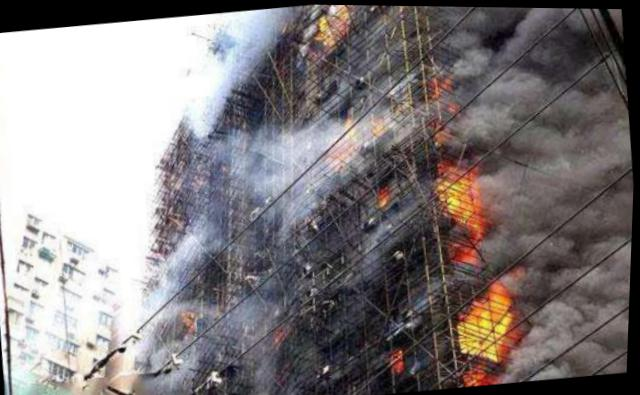fire: (448, 262, 529, 366), (434, 152, 492, 231), (315, 114, 365, 167), (311, 4, 350, 42)
